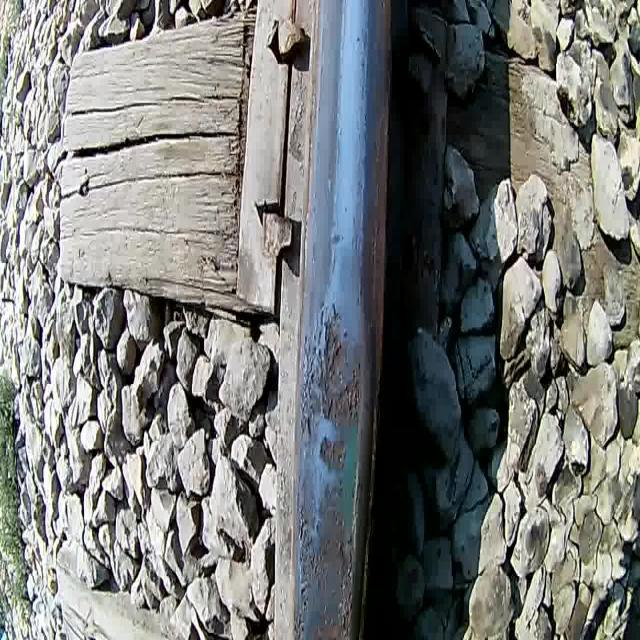Cracks: (297, 309, 320, 436), (294, 494, 309, 546), (344, 535, 357, 584)
Spallings: (293, 546, 332, 640), (322, 297, 343, 428), (343, 347, 365, 423), (334, 583, 357, 640)
Squats: (297, 292, 366, 474), (294, 479, 364, 640), (366, 84, 394, 391), (372, 0, 395, 74)
